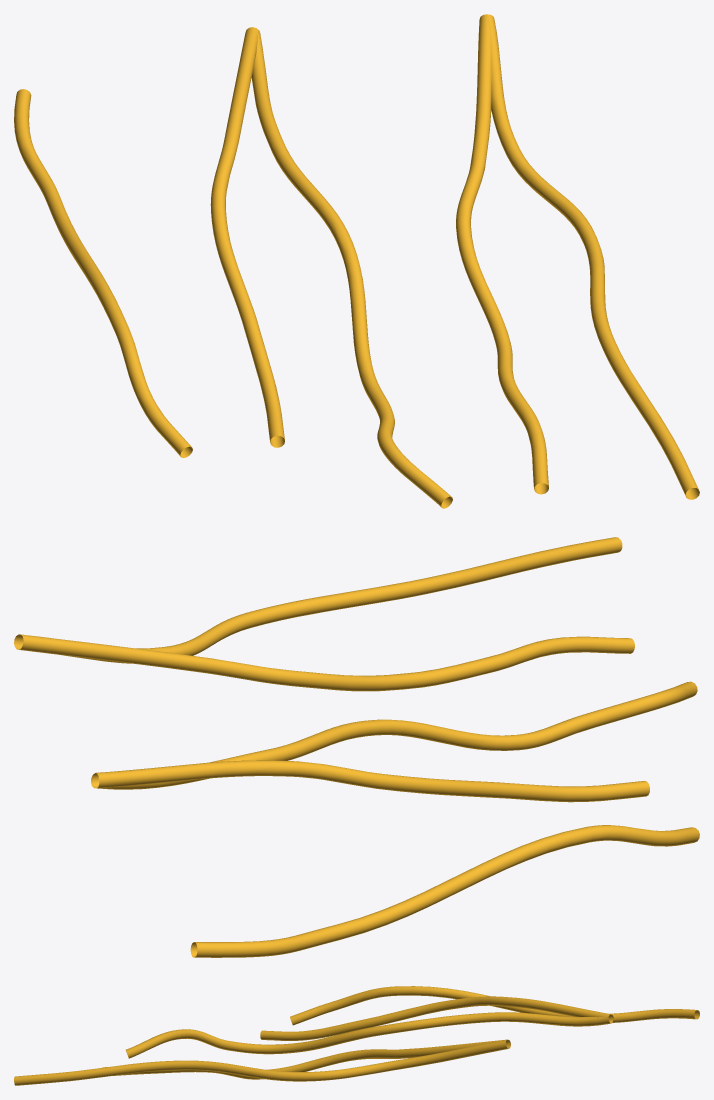
File: nervoso-proper-plantar-digital-branches-of-lateral-plantar-nerve-r.glb
The picture shows the model from 3 angles, top to bottom: view 1: azimuth 30°, elevation 25°; view 2: azimuth 150°, elevation 25°; view 3: azimuth 270°, elevation 25°; orthographic projection. The views are drawn at different scales.
Parts seen in each view (by area): view 1: Proper plantar digital branches of lateral plantar nerve.r; view 2: Proper plantar digital branches of lateral plantar nerve.r; view 3: Proper plantar digital branches of lateral plantar nerve.r.
Part boxes in pixels (x1,y1,x2,y2): Proper plantar digital branches of lateral plantar nerve.r: (14,14,699,508); Proper plantar digital branches of lateral plantar nerve.r: (14,537,699,957); Proper plantar digital branches of lateral plantar nerve.r: (14,986,699,1085).
Size of the model in its own units: 0.0374 by 0.0151 by 0.0716.
